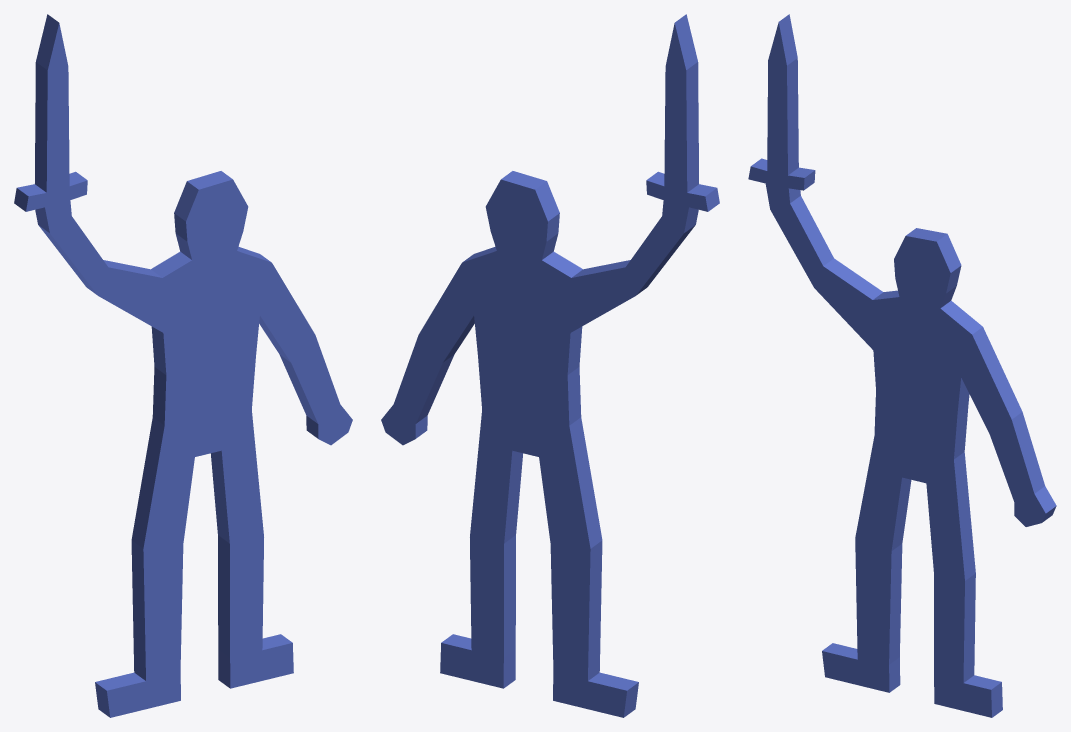
The model's file is SM_peopleBlue.fbx.
3 renders of one model, left to right at view 1: azimuth 30°, elevation 25°; view 2: azimuth 150°, elevation 25°; view 3: azimuth 330°, elevation 25°, orthographic. The views are drawn at different scales.
Parts seen in each view (by area): view 1: SM_people; view 2: SM_people; view 3: SM_people.
Boxes of the visible parts, x1,y1,x2,y2 form: SM_people: [14, 14, 352, 717]; SM_people: [381, 14, 719, 717]; SM_people: [748, 14, 1056, 717].
Bounding box in the file's own units: 115 × 239 × 7.27.
